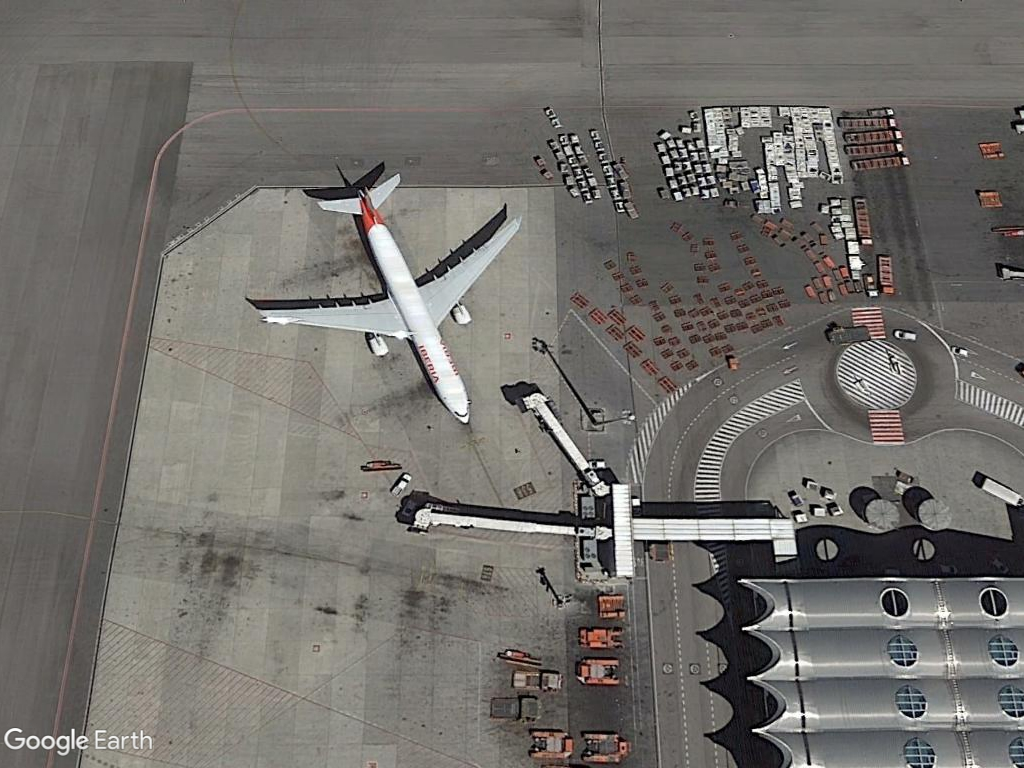airliner: (250, 169, 527, 427)
pushbacktruck: (569, 653, 626, 688), (577, 731, 632, 764), (524, 726, 576, 760), (576, 624, 629, 651)
